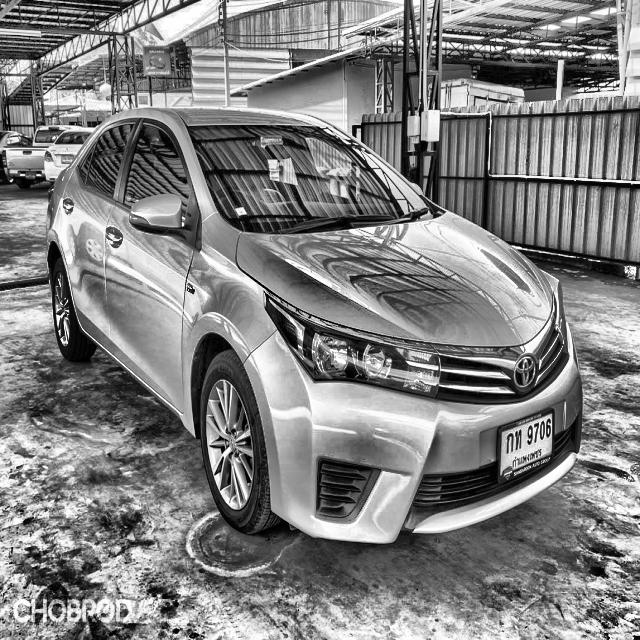license-plate: (488, 396, 559, 482)
